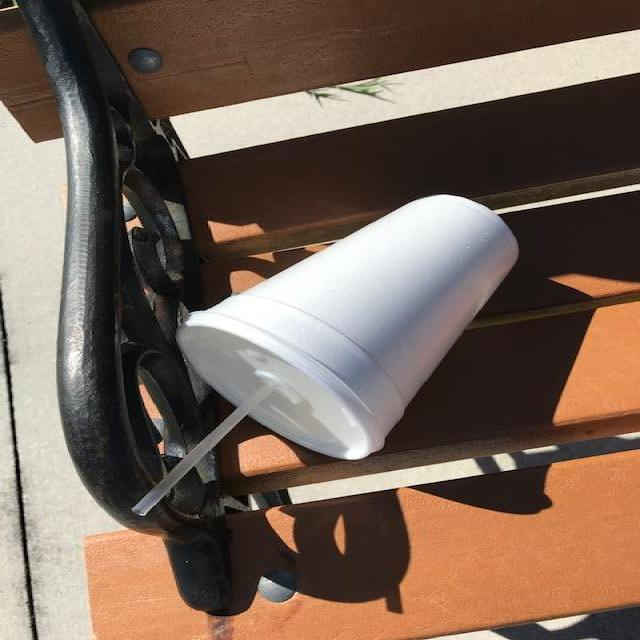litter: (205, 192, 520, 440), (175, 312, 383, 458), (132, 384, 276, 516)
